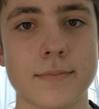without_mask: (2, 1, 99, 109)
